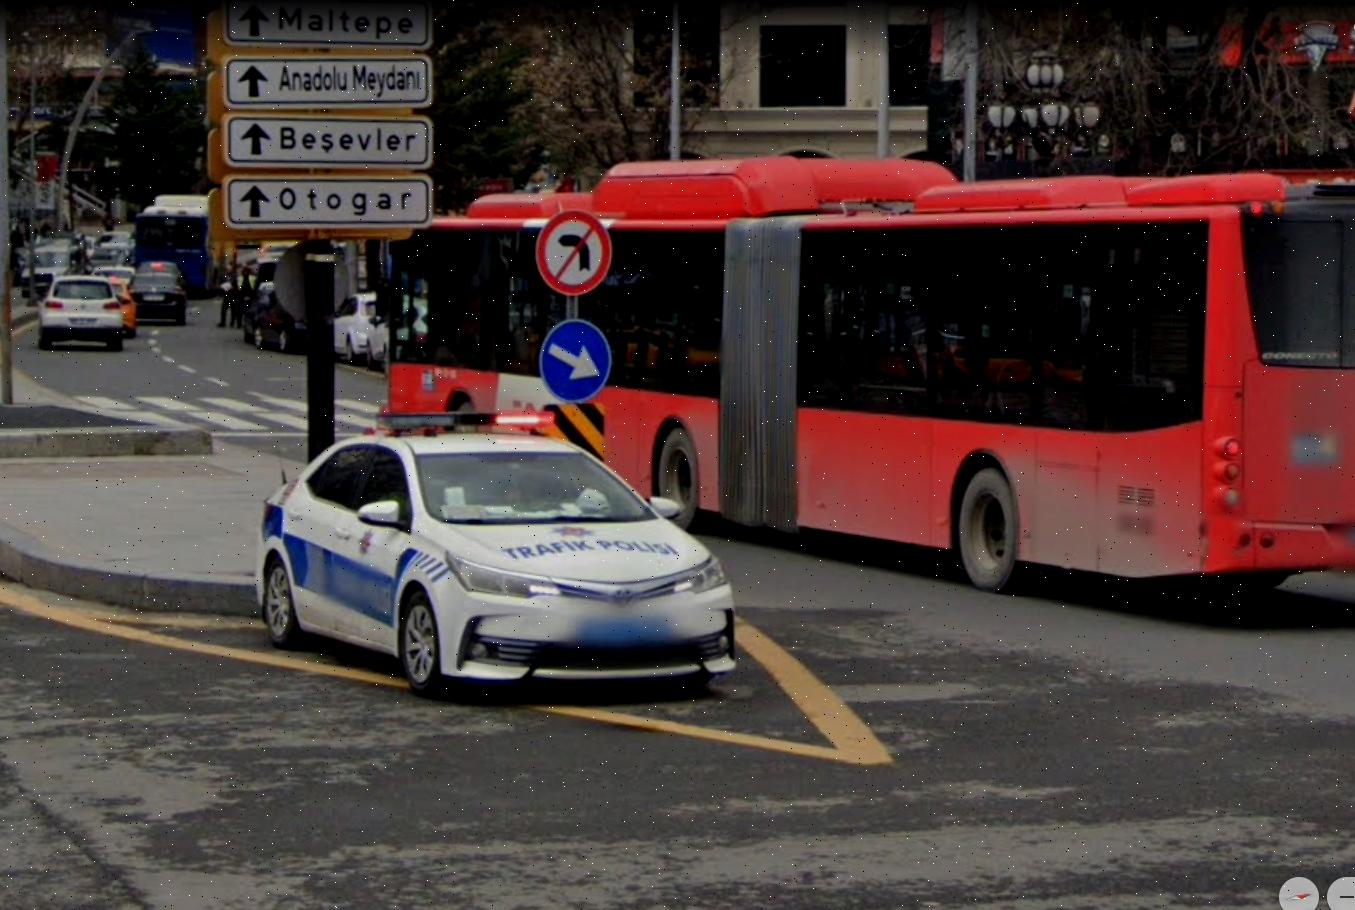leftturnsareforbidden: (536, 212, 615, 288)
